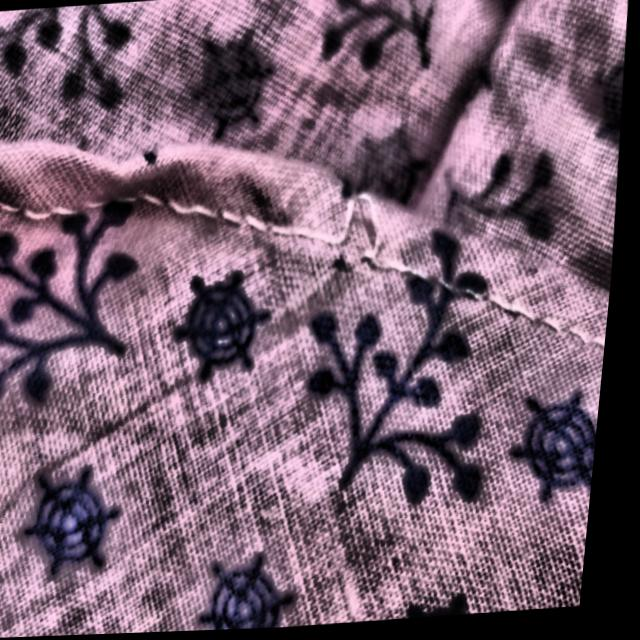Stitch: (306, 165, 426, 286)
